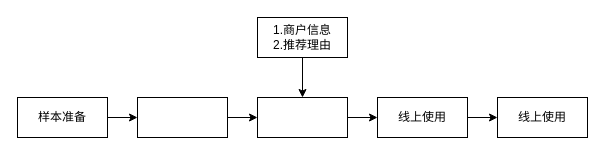
The diagram is 605 pixels wide and 155 high, and some of its shapes have lost their labels. The shapes that lost their labels are listed below. From the top down, each one's centre as x and y in pixels, then its label:
the point at 182,117: 模型训练
the point at 302,117: 模型
